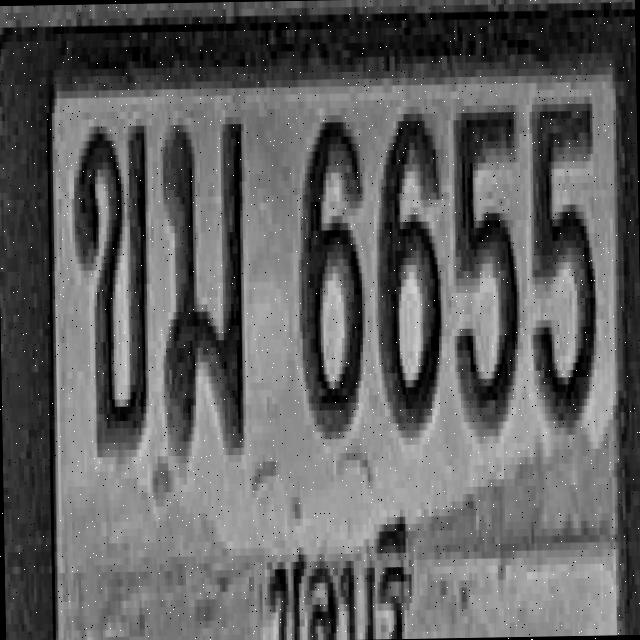11KhorKhai: (73, 118, 152, 450)
42MorMa: (160, 116, 248, 448)
5: (528, 95, 598, 428), (451, 100, 520, 426)
6: (377, 106, 442, 430), (298, 115, 364, 432)
